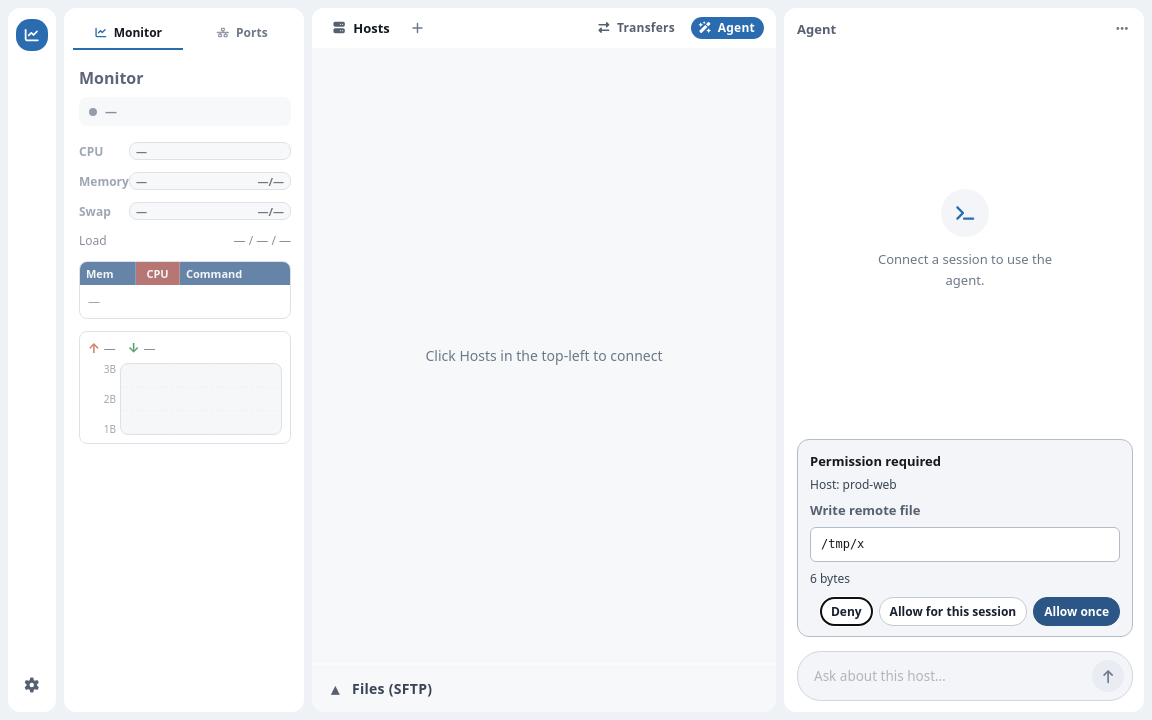
Test: App permission prompt › opens on permission:ask and answers through PermissionDecide
Expected: the element "Permission required" is shown, [785,9,1144,711]
Expected: the text "Write remote file" is shown, [810,501,920,519]
Click the button "Allow once" at coordinates (1077, 612), box [1033,597,1120,626]
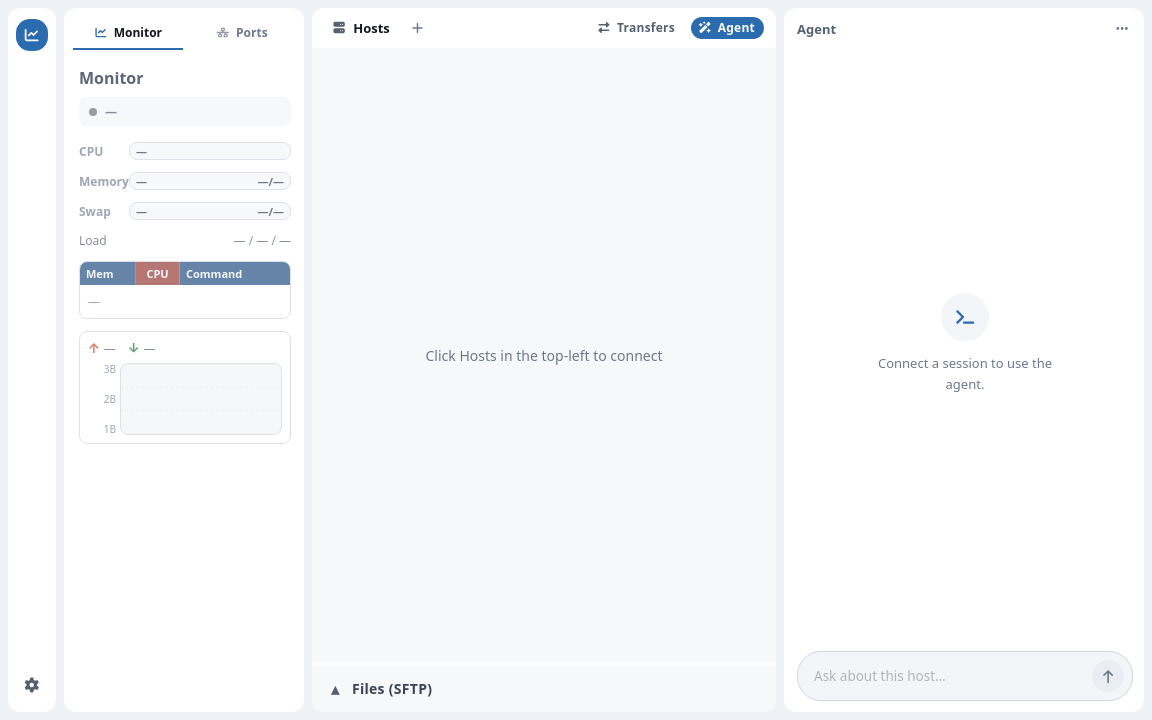
Result: the heading "Permission required" is gone
